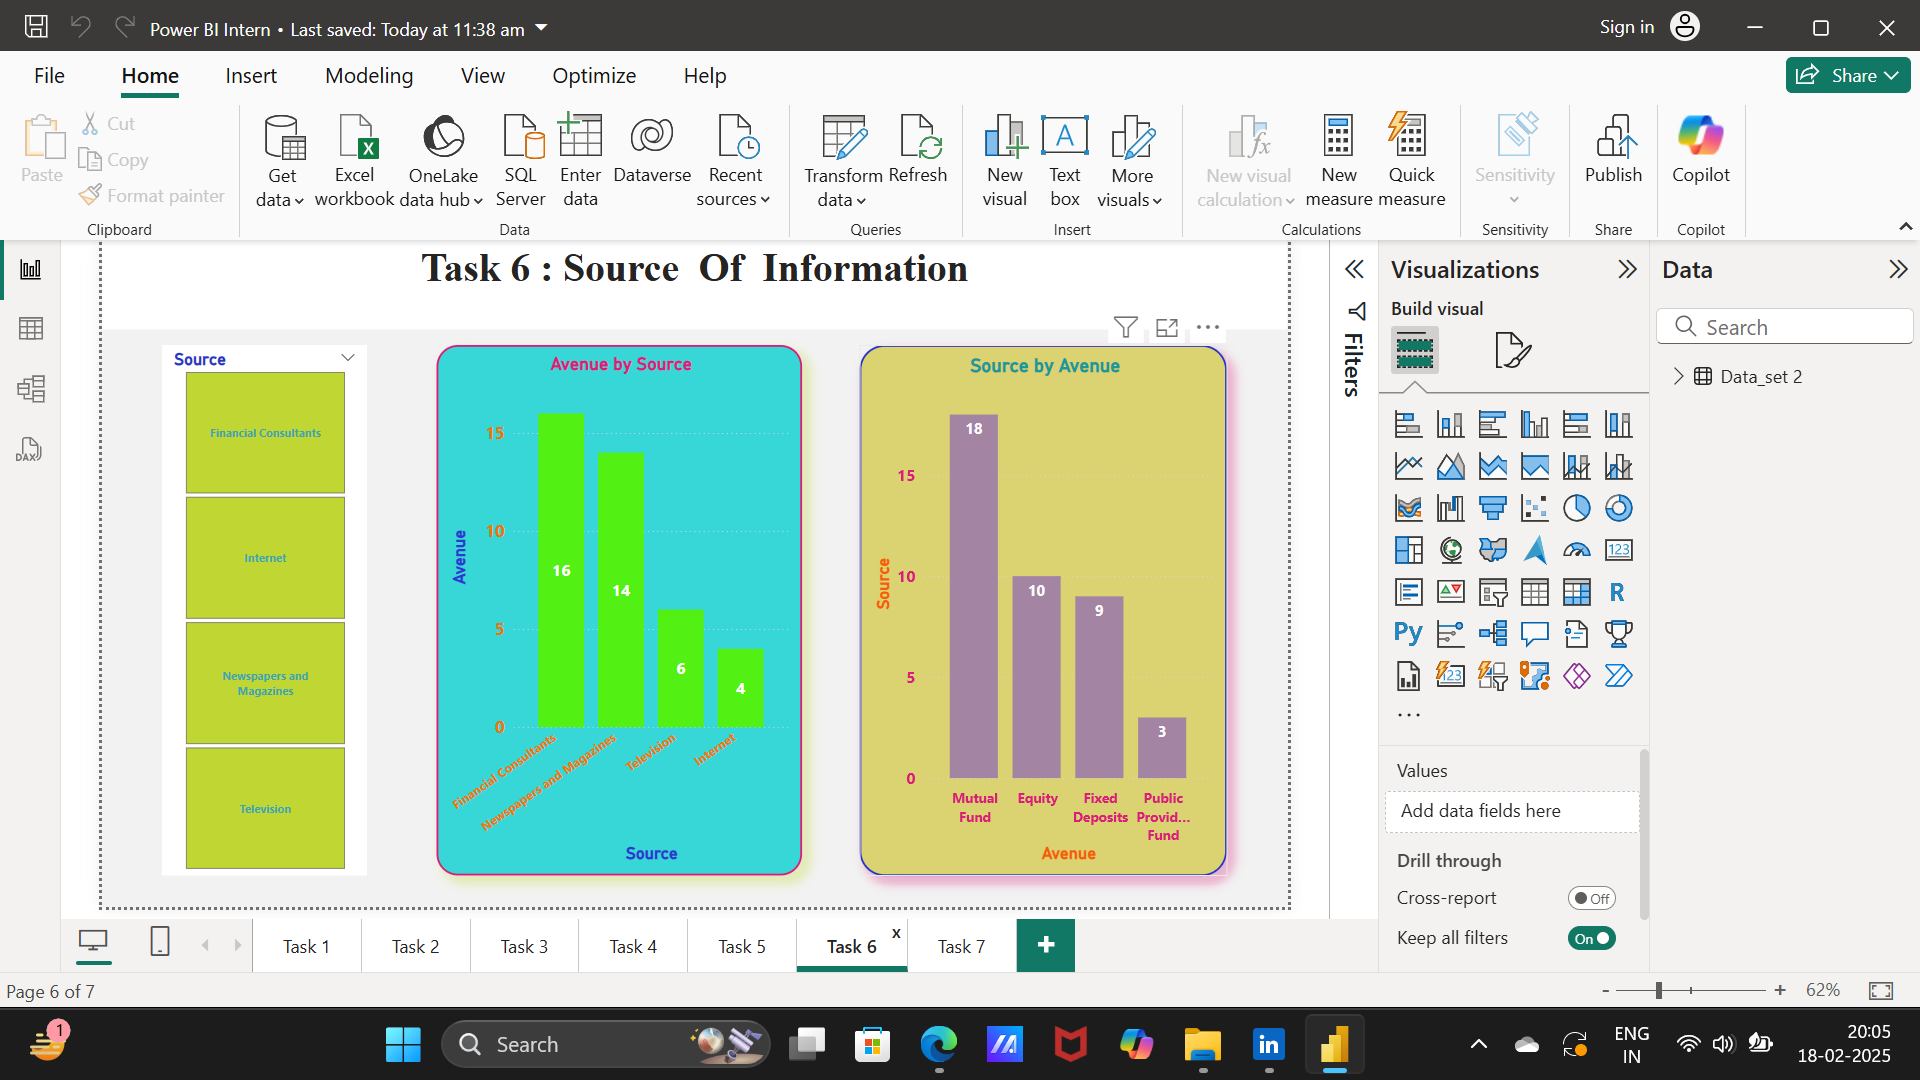

This screenshot's page, from the dashboard's own definition file:
{"tool":"powerbi","page":{"name":"Task 6","canvas":[1280,720],"ordinal":5},"visuals":[{"type":"textbox","box":[0,0,1279.4,96.4],"z":0},{"type":"clusteredColumnChart","fields":{"Y":["CountNonNull(Data_set 2.Source)"],"Category":["Data_set 2.Avenue"]},"box":[817.7,113.3,396.7,573.2],"z":1000},{"type":"clusteredColumnChart","fields":{"Category":["Data_set 2.Source"],"Y":["CountNonNull(Data_set 2.Avenue)"]},"box":[360.9,113.4,395,572.6],"z":2000},{"type":"slicer","fields":{"Values":["Data_set 2.Source"]},"box":[64.3,113.4,221.1,572.6],"z":3000}]}

Visuals, with their boxes on the page's 1280x720 design canvas (x1, y1, x2, y2). These are canvas units, not pixel positions in the 1920x1080 screenshot, which may show the page scaled, cropped or inside an application window:
textbox: x1=0 y1=0 x2=1279 y2=96
clusteredColumnChart - CountNonNull(Data_set 2.Source) x Data_set 2.Avenue: x1=818 y1=113 x2=1214 y2=686
clusteredColumnChart - Data_set 2.Source x CountNonNull(Data_set 2.Avenue): x1=361 y1=113 x2=756 y2=686
slicer - Data_set 2.Source: x1=64 y1=113 x2=285 y2=686
